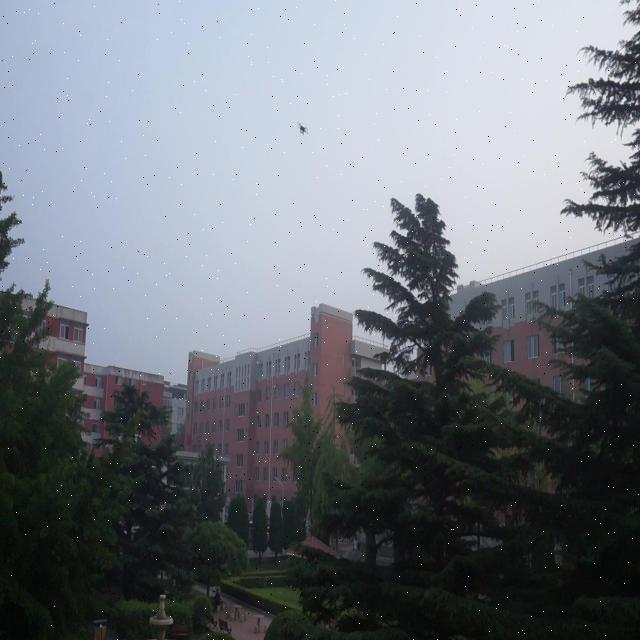UAV: (297, 122, 309, 136)
